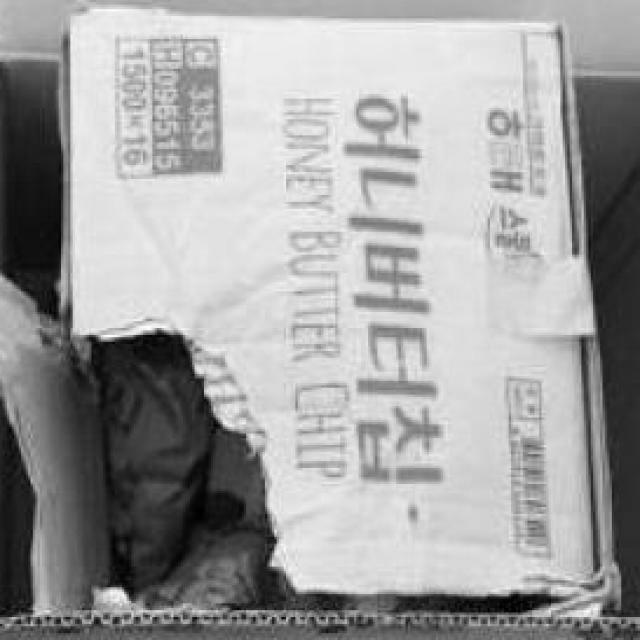hole: (50, 313, 272, 640)
